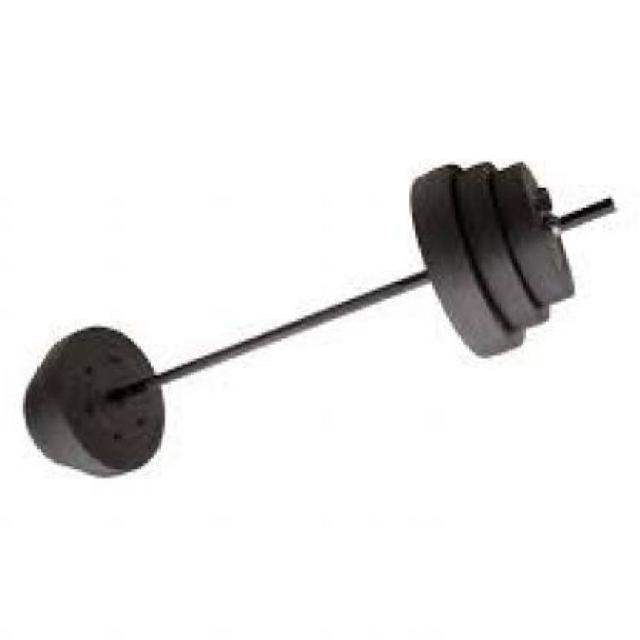Barbell: (592, 190, 626, 224)
